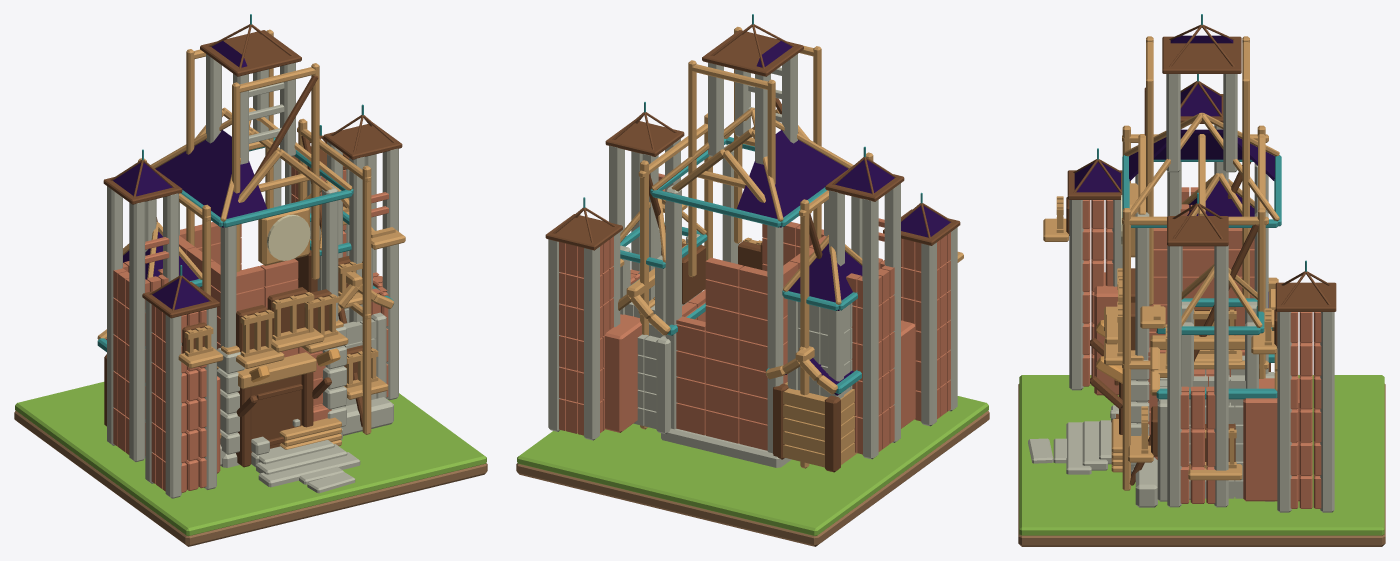
The model's file is town_hall_l15_construction_LOD0.glb.
3 views of the same model, side by side, from view 1: azimuth 30°, elevation 25°; view 2: azimuth 150°, elevation 25°; view 3: azimuth 270°, elevation 25° (orthographic). The views are drawn at different scales.
Visible parts, largest first — view 1: town_hall_l15_construction_grass_tile, town_hall_l15_construction_earth_tile, town_hall_l15_construction_corner_reinforcement.024, town_hall_l15_construction_corner_reinforcement.030, town_hall_l15_construction_corner_reinforcement.036, town_hall_l15_construction_scaffold_post.002, town_hall_l15_construction_corner_reinforcement.025, town_hall_l15_construction_door_recess, town_hall_l15_construction_central_spire_cornice, town_hall_l15_construction_hip_roof_shingle.011, town_hall_l15_construction_corner_reinforcement, town_hall_l15_construction_corner_reinforcement.038 (+40 smaller); view 2: town_hall_l15_construction_grass_tile, town_hall_l15_construction_earth_tile, town_hall_l15_construction_corner_reinforcement.025, town_hall_l15_construction_vertical_corner_connector, town_hall_l15_construction_corner_reinforcement.033, town_hall_l15_construction_corner_reinforcement.001, town_hall_l15_construction_corner_reinforcement.037, town_hall_l15_construction_corner_reinforcement.003, town_hall_l15_construction_corner_reinforcement.024, town_hall_l15_construction_central_spire_cornice, town_hall_l15_construction_hip_roof_shingle.011, town_hall_l15_construction_corner_reinforcement.035 (+64 smaller); view 3: town_hall_l15_construction_grass_tile, town_hall_l15_construction_earth_tile, town_hall_l15_construction_vertical_corner_connector, town_hall_l15_construction_corner_reinforcement.030, town_hall_l15_construction_corner_reinforcement.031, town_hall_l15_construction_corner_reinforcement.034, town_hall_l15_construction_corner_reinforcement.035, town_hall_l15_construction_corner_reinforcement.038, town_hall_l15_construction_central_spire_cornice, town_hall_l15_construction_scaffold_post.002, town_hall_l15_construction_corner_reinforcement.002, town_hall_l15_construction_right_spire_cornice (+50 smaller).
Part boxes in pixels (box(x1,y1,x2,y2)): town_hall_l15_construction_grass_tile: box(15, 382, 486, 535); town_hall_l15_construction_earth_tile: box(14, 410, 487, 546); town_hall_l15_construction_corner_reinforcement.024: box(129, 201, 145, 461); town_hall_l15_construction_corner_reinforcement.030: box(382, 148, 398, 400); town_hall_l15_construction_corner_reinforcement.036: box(165, 315, 181, 498); town_hall_l15_construction_scaffold_post.002: box(362, 165, 371, 434); town_hall_l15_construction_corner_reinforcement.025: box(107, 186, 122, 445); town_hall_l15_construction_door_recess: box(251, 375, 301, 452); town_hall_l15_construction_central_spire_cornice: box(200, 30, 301, 76); town_hall_l15_construction_hip_roof_shingle.011: box(155, 152, 228, 227); town_hall_l15_construction_corner_reinforcement: box(220, 225, 236, 347); town_hall_l15_construction_corner_reinforcement.038: box(204, 307, 216, 489); town_hall_l15_construction_grass_tile: box(517, 396, 988, 535); town_hall_l15_construction_earth_tile: box(516, 410, 989, 546); town_hall_l15_construction_corner_reinforcement.025: box(862, 199, 878, 459); town_hall_l15_construction_vertical_corner_connector: box(604, 314, 641, 432); town_hall_l15_construction_corner_reinforcement.033: box(583, 247, 599, 440); town_hall_l15_construction_corner_reinforcement.001: box(767, 225, 783, 453); town_hall_l15_construction_corner_reinforcement.037: box(921, 242, 936, 426); town_hall_l15_construction_corner_reinforcement.003: box(665, 185, 681, 429); town_hall_l15_construction_corner_reinforcement.024: box(884, 183, 900, 442); town_hall_l15_construction_central_spire_cornice: box(702, 30, 803, 76); town_hall_l15_construction_hip_roof_shingle.011: box(775, 152, 848, 227); town_hall_l15_construction_corner_reinforcement.035: box(548, 239, 560, 431); town_hall_l15_construction_grass_tile: box(1019, 375, 1384, 535); town_hall_l15_construction_earth_tile: box(1018, 384, 1385, 546); town_hall_l15_construction_vertical_corner_connector: box(1243, 378, 1299, 501); town_hall_l15_construction_corner_reinforcement.030: box(1167, 245, 1181, 507); town_hall_l15_construction_corner_reinforcement.031: box(1214, 245, 1228, 507); town_hall_l15_construction_corner_reinforcement.034: box(1277, 312, 1291, 512); town_hall_l15_construction_corner_reinforcement.035: box(1320, 312, 1334, 512); town_hall_l15_construction_corner_reinforcement.038: box(1069, 200, 1083, 390); town_hall_l15_construction_central_spire_cornice: box(1162, 36, 1241, 73); town_hall_l15_construction_scaffold_post.002: box(1122, 208, 1130, 490); town_hall_l15_construction_corner_reinforcement.002: box(1135, 212, 1149, 423); town_hall_l15_construction_right_spire_cornice: box(1167, 216, 1228, 246).
Size of the model in its own units: 3.6 by 4.94 by 3.6.
